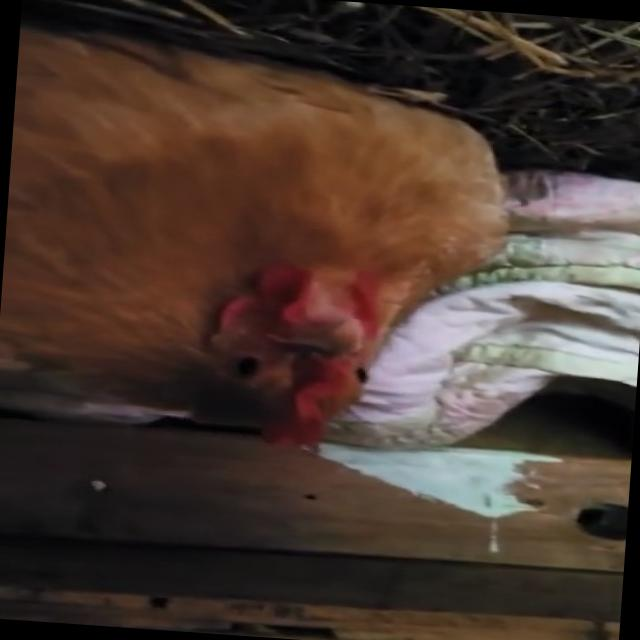menacing: (0, 22, 499, 466)
